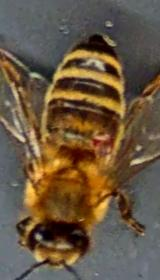varroa_mite: (88, 131, 117, 152)
